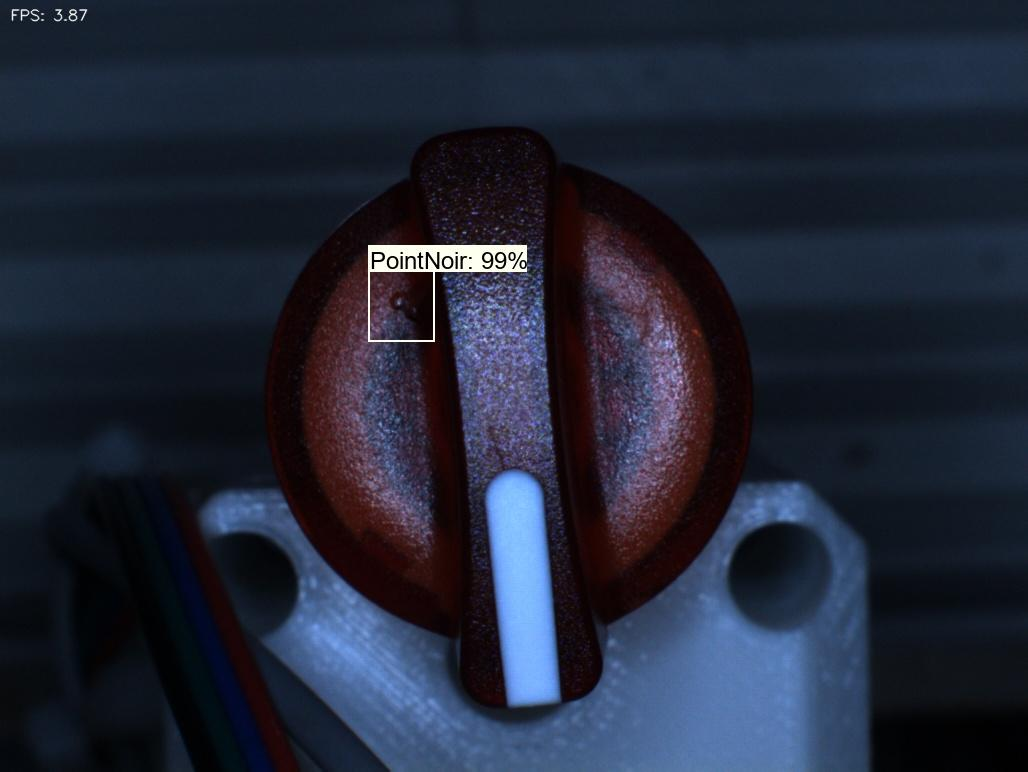Choc: (368, 270, 443, 350)
